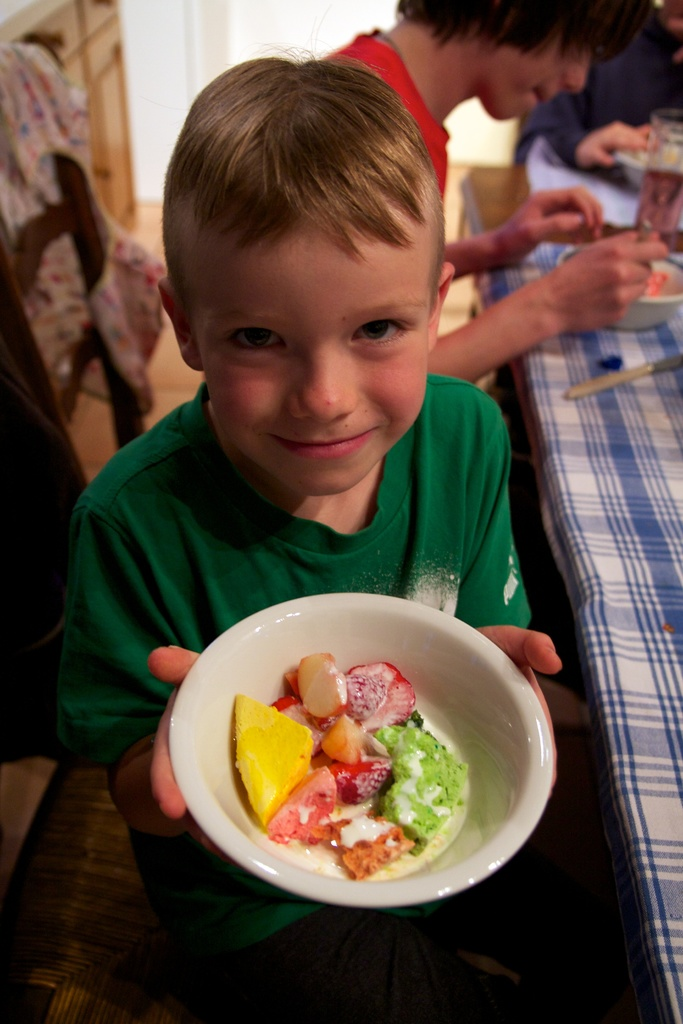salad: (225, 650, 477, 880)
